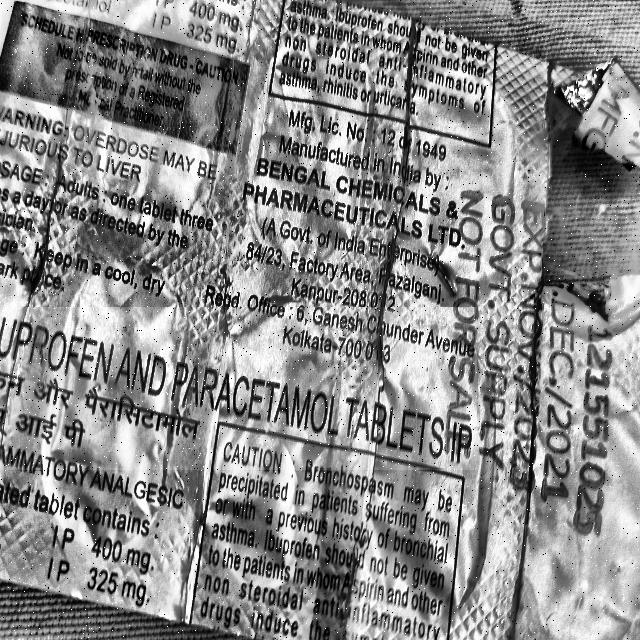IBUPROFEN AND PARACETAMOL TABLETS: (0, 307, 477, 469)
